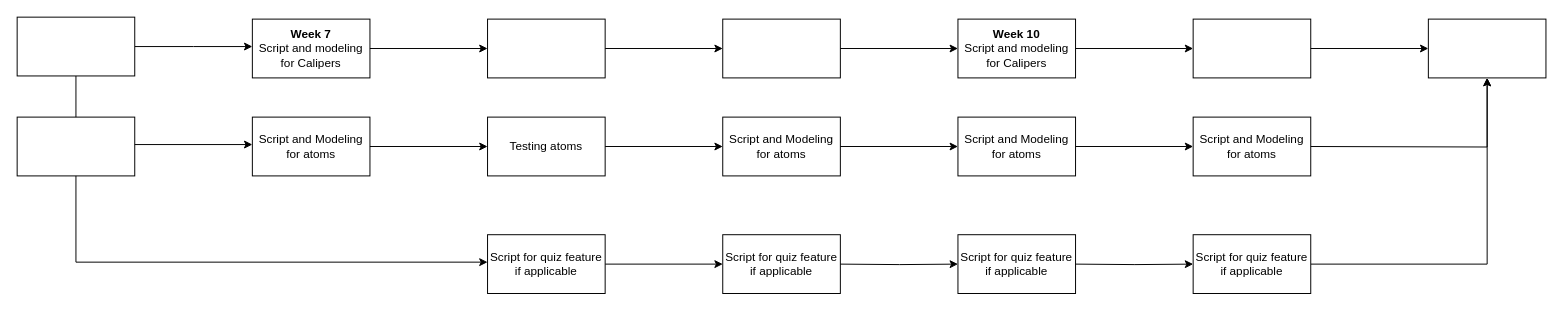
Some shapes in this 1563 by 311 pixel diagram are drawn without their labels. The centre of each missing label's shape, as x and y in pixels:
"Testing for Tensile" belongs at point 75,146.
"Week 11 Script and modeling for Calipers" belongs at point 1251,48.
"Week 12 Finalize changes and rollback to stable build" belongs at point 1486,48.
"Week 6 Script, modeling, and animation for Calipers" belongs at point 75,46.
"Week 8 Testing Calipers" belongs at point 546,48.
"Week 9 Script and modeling for Calipers" belongs at point 781,48.
